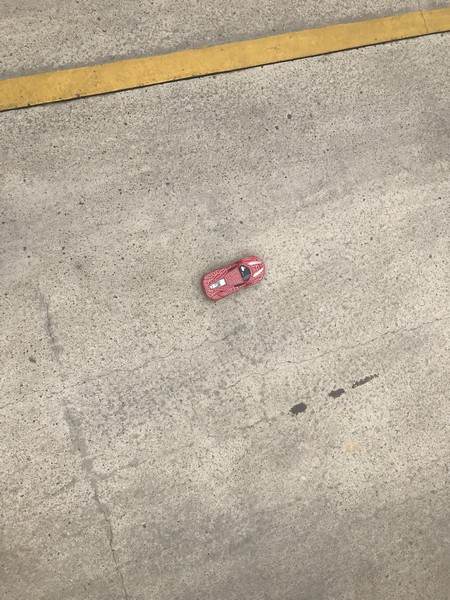RC: (200, 255, 267, 301)
